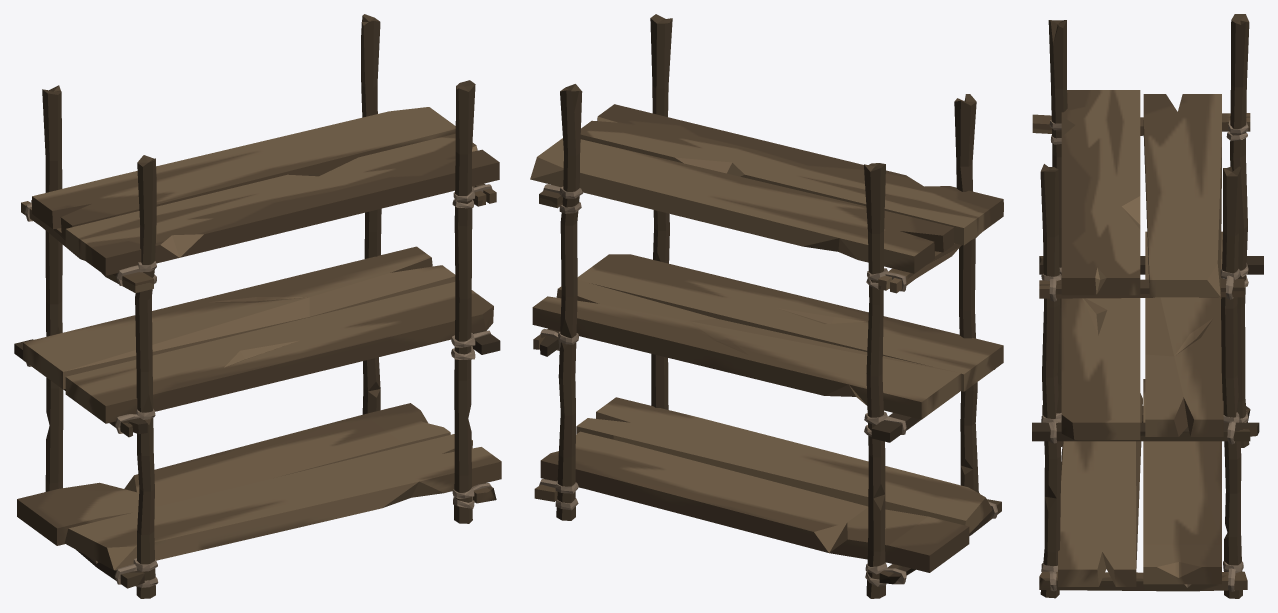
File: SM_Prop_Shelf_03.fbx
3 views of the same model, side by side, from view 1: azimuth 30°, elevation 25°; view 2: azimuth 150°, elevation 25°; view 3: azimuth 270°, elevation 25° (orthographic). The views are drawn at different scales.
Visible parts, largest first — view 1: SM_Prop_Shelf_03; view 2: SM_Prop_Shelf_03; view 3: SM_Prop_Shelf_03.
Part boxes in pixels (x1,y1,x2,y2): SM_Prop_Shelf_03: (14, 14, 501, 598); SM_Prop_Shelf_03: (530, 14, 1003, 598); SM_Prop_Shelf_03: (1032, 14, 1263, 598).
Size of the model in its own units: 234 by 241 by 118.
